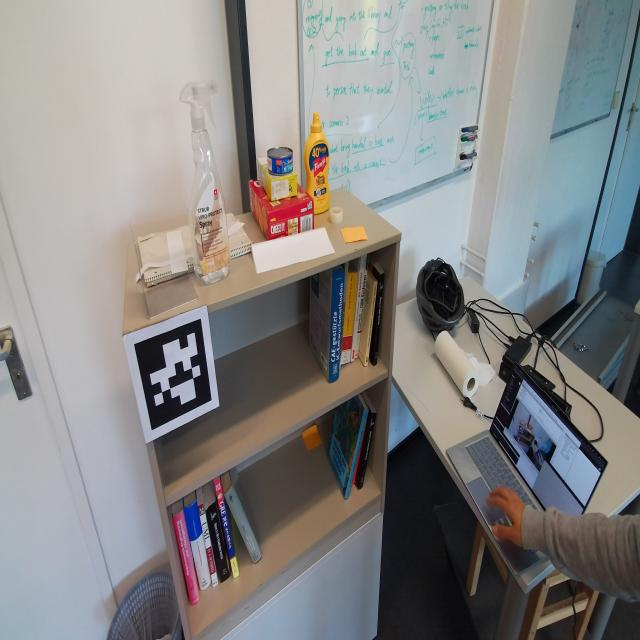Book Spine: (224, 485, 262, 564), (172, 510, 200, 605), (214, 478, 239, 578), (184, 502, 211, 592), (345, 408, 369, 500), (206, 501, 230, 583), (328, 268, 345, 383), (198, 503, 219, 588), (341, 272, 357, 365), (351, 256, 365, 362), (356, 251, 369, 359), (358, 412, 376, 489), (364, 281, 377, 367), (339, 261, 348, 371), (374, 273, 384, 366)
